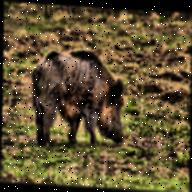boar: (8, 18, 174, 192)
